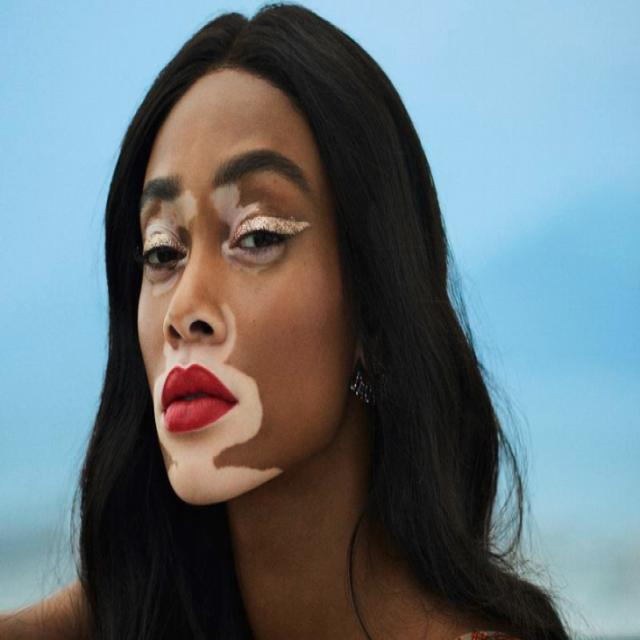vitiligo: (137, 149, 319, 506)
